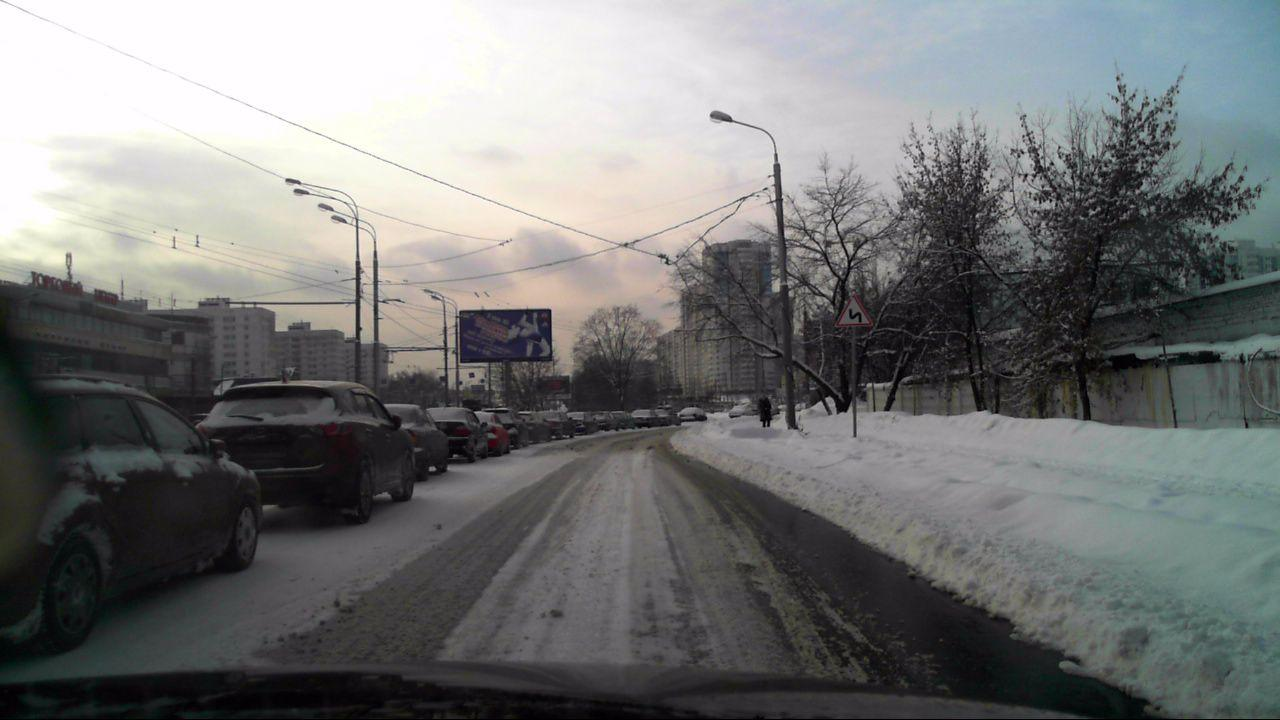1_12_2: (836, 293, 872, 329)
